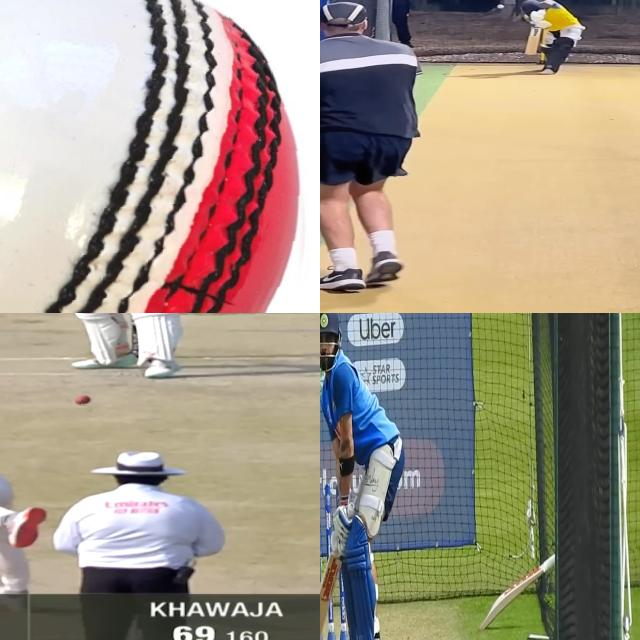Cricket ball: (0, 0, 314, 313), (73, 395, 93, 406), (496, 4, 506, 9)
Stumps: (320, 481, 345, 640)
